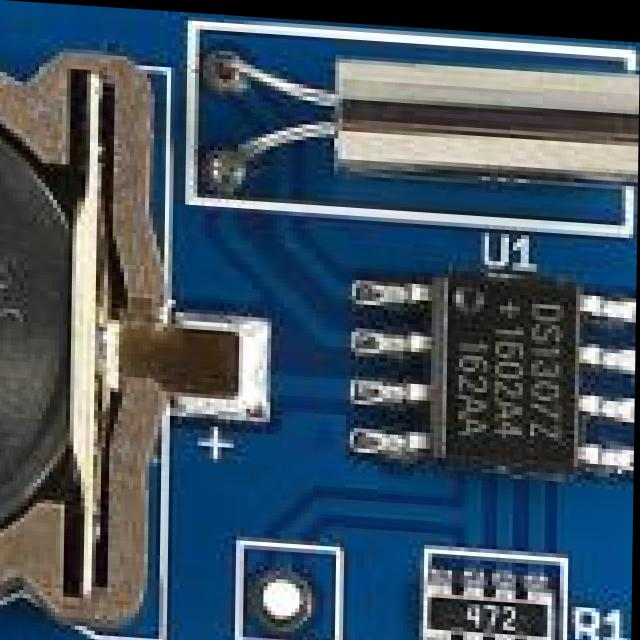IC: (378, 256, 635, 507)
battery: (0, 36, 180, 640)
clock: (210, 27, 640, 230)
resistor: (417, 558, 598, 640)
